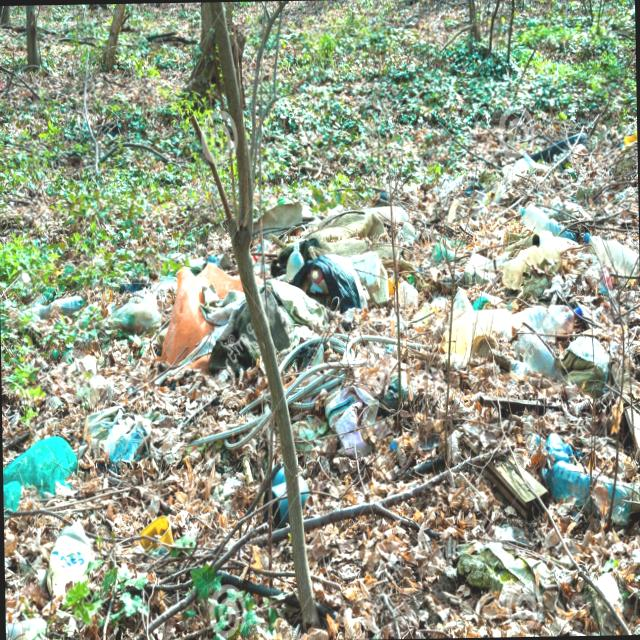garbage: (54, 196, 640, 530)
